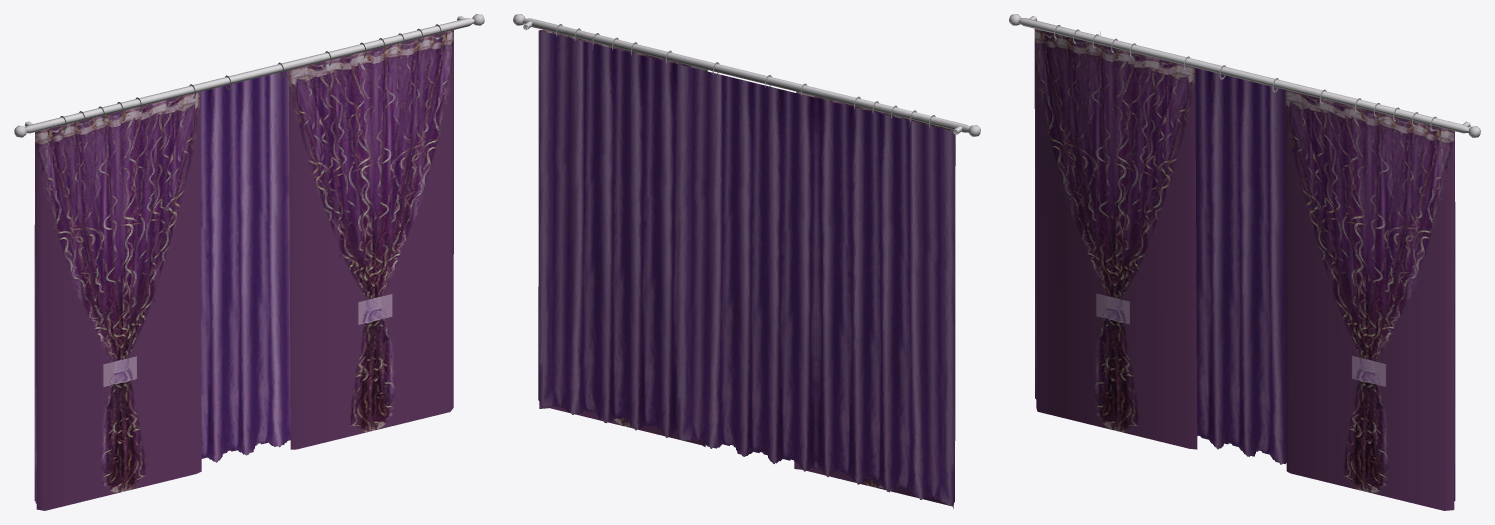
File: furni_0200764.FBX
3 renders of one model, left to right at view 1: azimuth 30°, elevation 25°; view 2: azimuth 150°, elevation 25°; view 3: azimuth 330°, elevation 25°, orthographic.
Parts seen in each view (by area): view 1: furni_0200764; view 2: furni_0200764; view 3: furni_0200764.
Part boxes in pixels (x1=…): furni_0200764: x1=14, y1=14, x2=484, y2=510; furni_0200764: x1=513, y1=14, x2=980, y2=508; furni_0200764: x1=1009, y1=14, x2=1480, y2=510.
Bounding box in the file's own units: 353 × 280 × 13.37.
2 materials, 2 textured.
